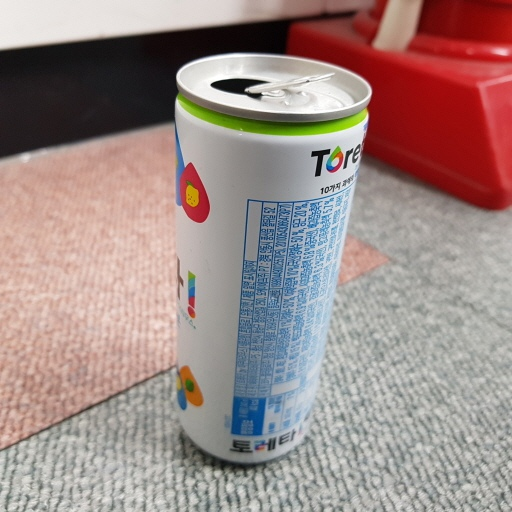Metal_0: (170, 48, 373, 466)
